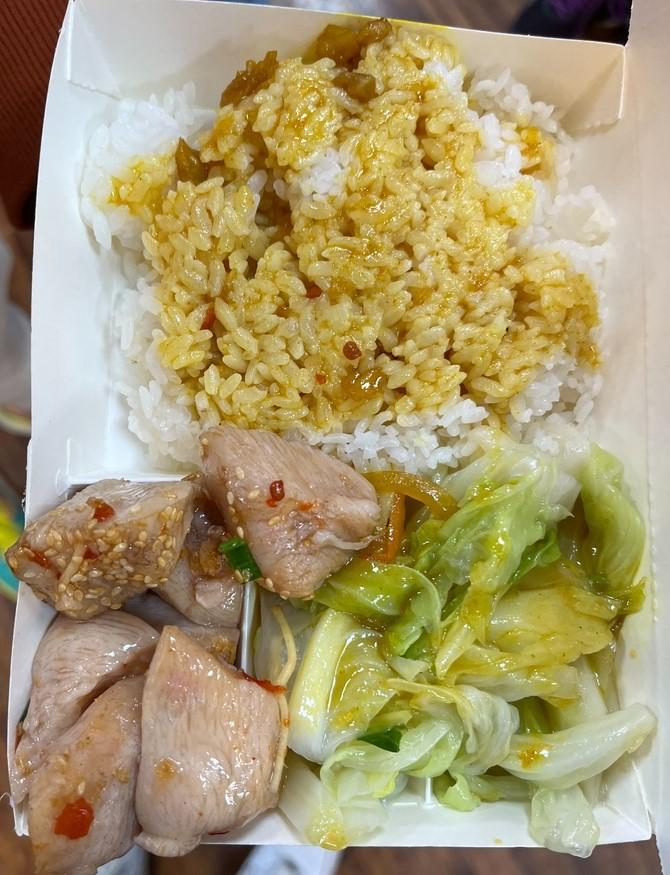big grilled chicken leg: (14, 12, 655, 872)
big herbal chicken leg: (84, 40, 627, 462)
braised fish fillet: (287, 447, 648, 830)
braised pork: (12, 430, 370, 872)
